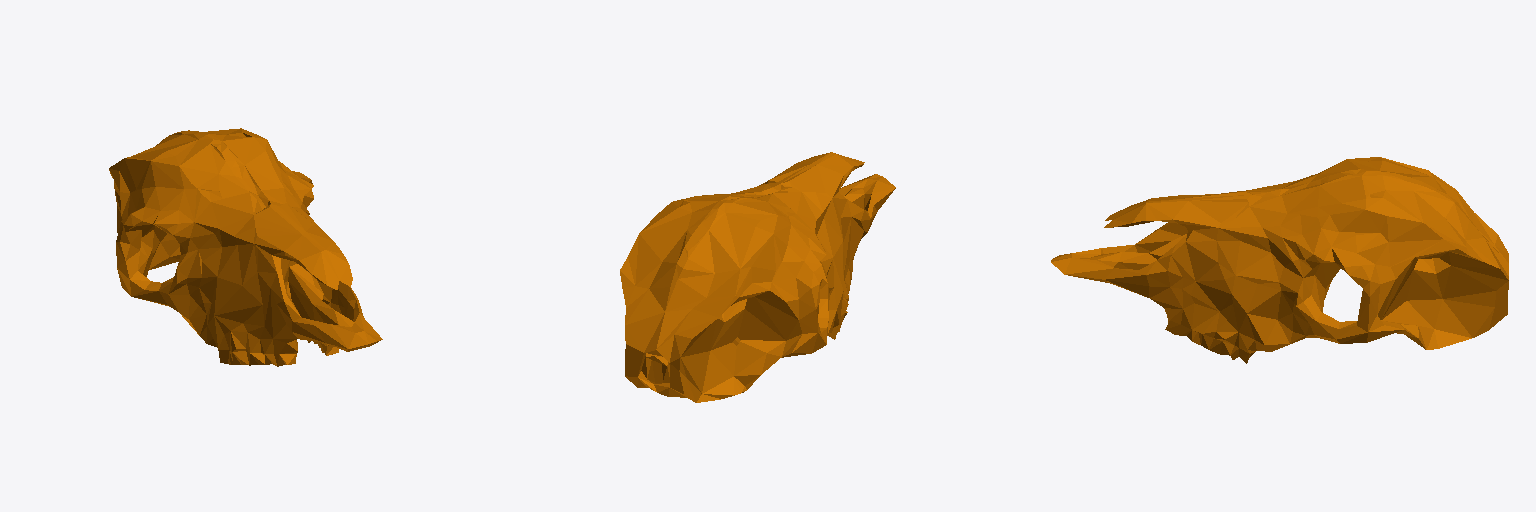
File: skull_2.obj
3 renders of one model, left to right at view 1: azimuth 30°, elevation 25°; view 2: azimuth 150°, elevation 25°; view 3: azimuth 270°, elevation 25°, orthographic.
Visible parts, largest first — view 1: RamSkull; view 2: RamSkull; view 3: RamSkull.
Boxes of the visible parts, x1=… form: RamSkull: x1=109, y1=128, x2=382, y2=366; RamSkull: x1=620, y1=152, x2=895, y2=402; RamSkull: x1=1051, y1=157, x2=1508, y2=363.
Bounding box in the file's own units: 1.2 × 1.02 × 2.51.